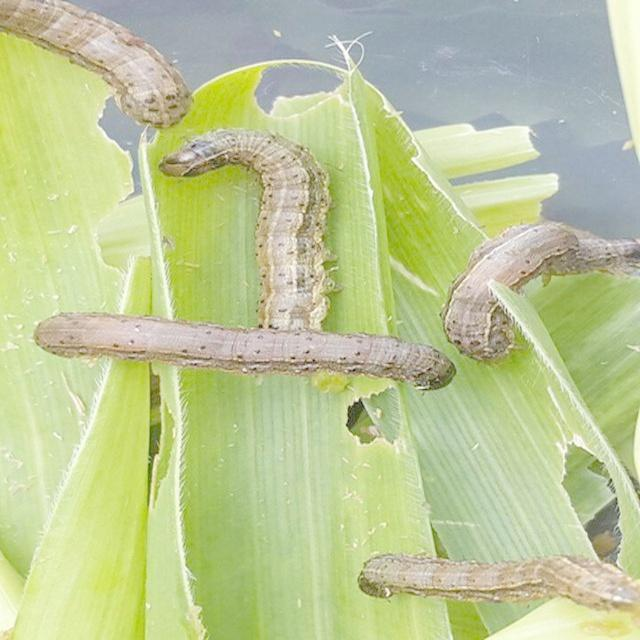gusano_cogollero: (28, 309, 456, 401), (0, 0, 196, 129)
